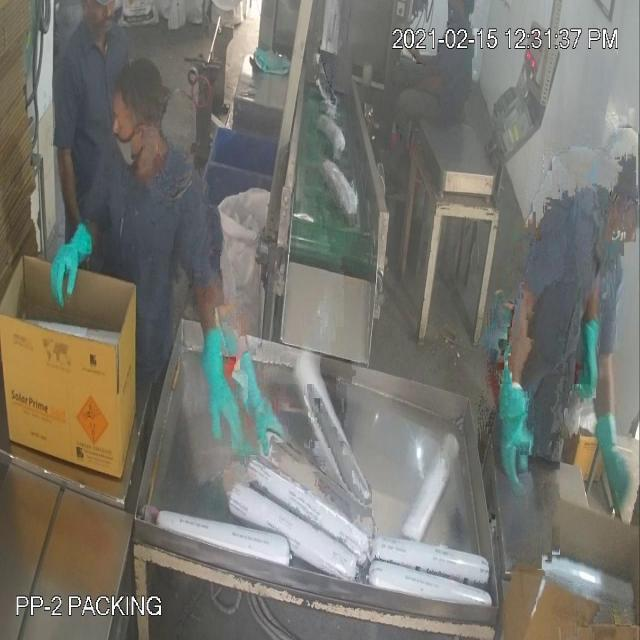Gloves: (46, 87, 614, 450)
